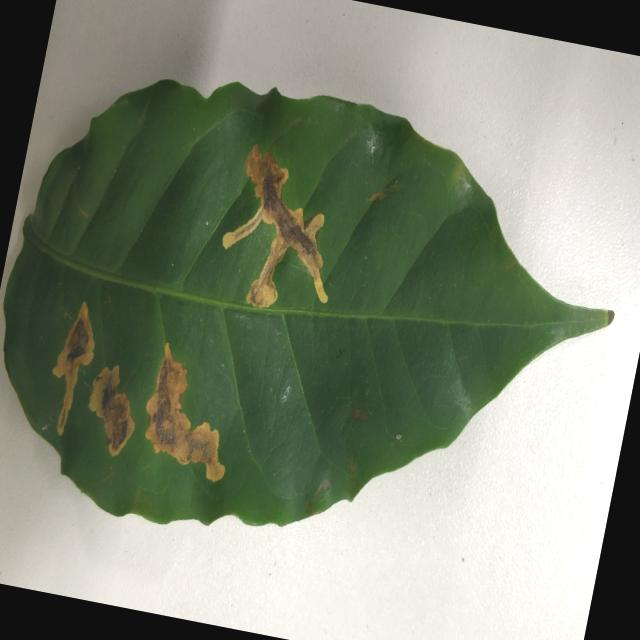KaratDaunKopi: (222, 145, 328, 307), (146, 343, 225, 482), (53, 302, 94, 435), (89, 365, 134, 456)
